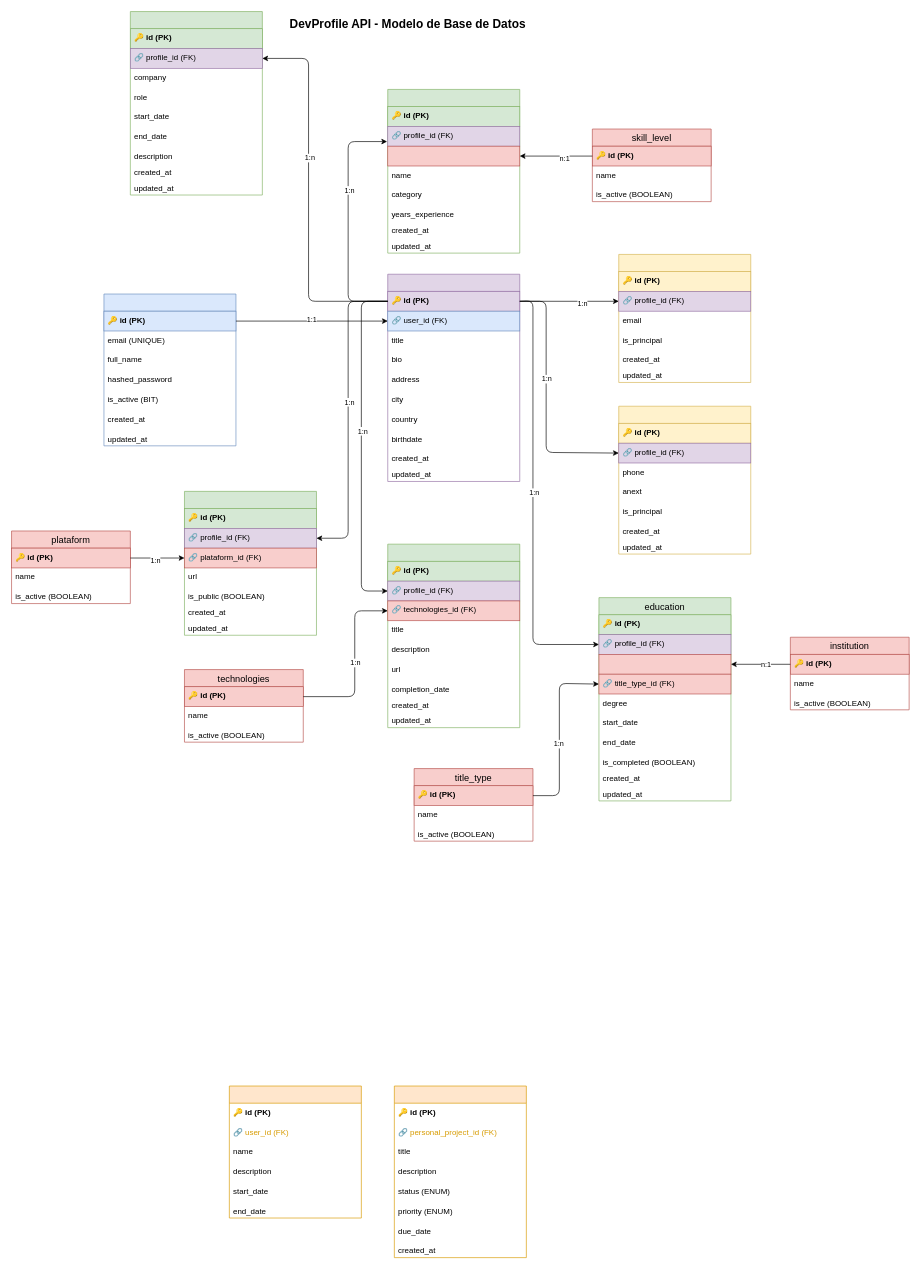
The diagram is 921 pixels wide and 1271 high, and some of its shapes have lost their labels. The box of each missing label's shape, as (x1, y1, x2, y2) in pixels:
personal_project: (229, 1085, 361, 1218)
profile: (387, 274, 520, 481)
projects: (387, 544, 520, 728)
skills: (387, 89, 520, 253)
social_network: (184, 491, 316, 635)
task: (394, 1085, 526, 1258)
user_emails: (618, 254, 751, 382)
user_phones: (618, 406, 751, 554)
users: (103, 293, 236, 446)
work_experience: (130, 11, 262, 195)
🔗 institution_id (FK): (598, 654, 731, 674)
🔗 skill_level_id (FK): (387, 146, 520, 166)
